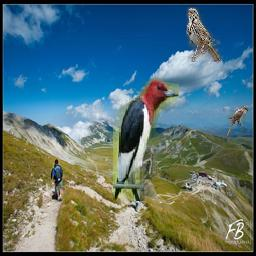Cuckoo: (226, 106, 249, 138)
Sparrow: (187, 8, 222, 63)
Woodpecker: (113, 79, 179, 202)
